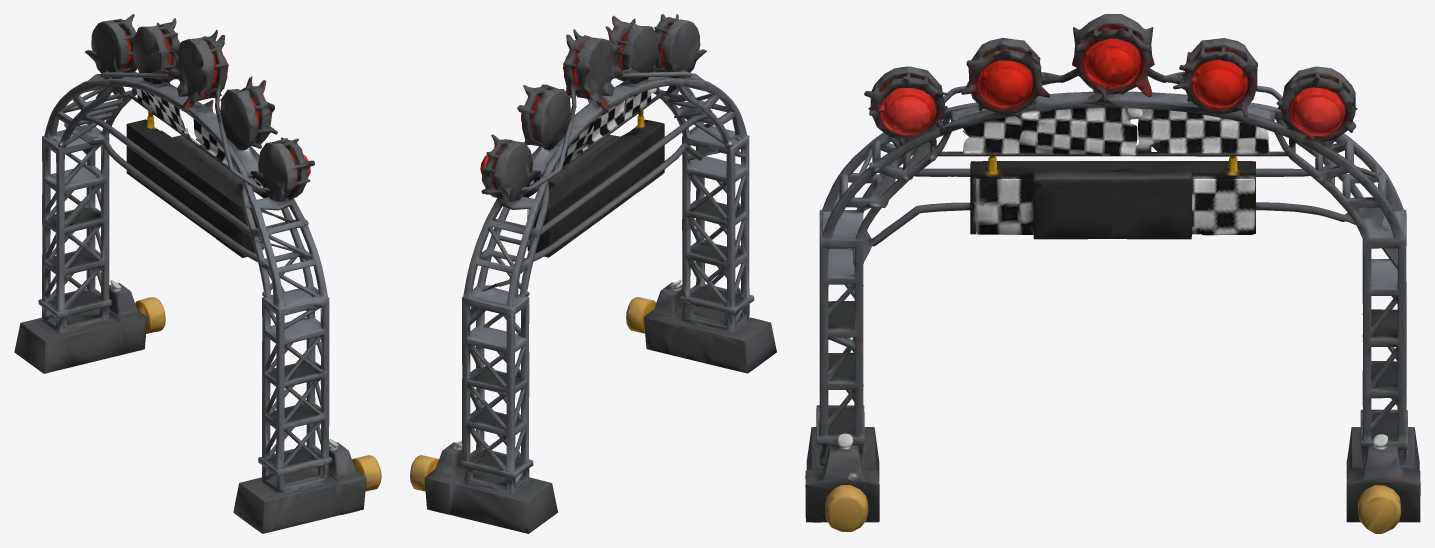
File: gantry.glb
3 views of the same model, side by side, from view 1: azimuth 30°, elevation 25°; view 2: azimuth 150°, elevation 25°; view 3: azimuth 270°, elevation 25° (orthographic). The views are drawn at different scales.
Visible parts, largest first — view 1: tripo_node_dc082cd6-ff6d-48c3-83a2-12e128fe0a70; view 2: tripo_node_dc082cd6-ff6d-48c3-83a2-12e128fe0a70; view 3: tripo_node_dc082cd6-ff6d-48c3-83a2-12e128fe0a70.
Part boxes in pixels (box(x1,y1,x2,y2)): tripo_node_dc082cd6-ff6d-48c3-83a2-12e128fe0a70: box(14, 14, 381, 533); tripo_node_dc082cd6-ff6d-48c3-83a2-12e128fe0a70: box(410, 14, 776, 533); tripo_node_dc082cd6-ff6d-48c3-83a2-12e128fe0a70: box(805, 14, 1420, 533).
Bounding box in the file's own units: 0.2977 × 0.8659 × 0.9998.
Materials: 1 (1 with a texture image).
